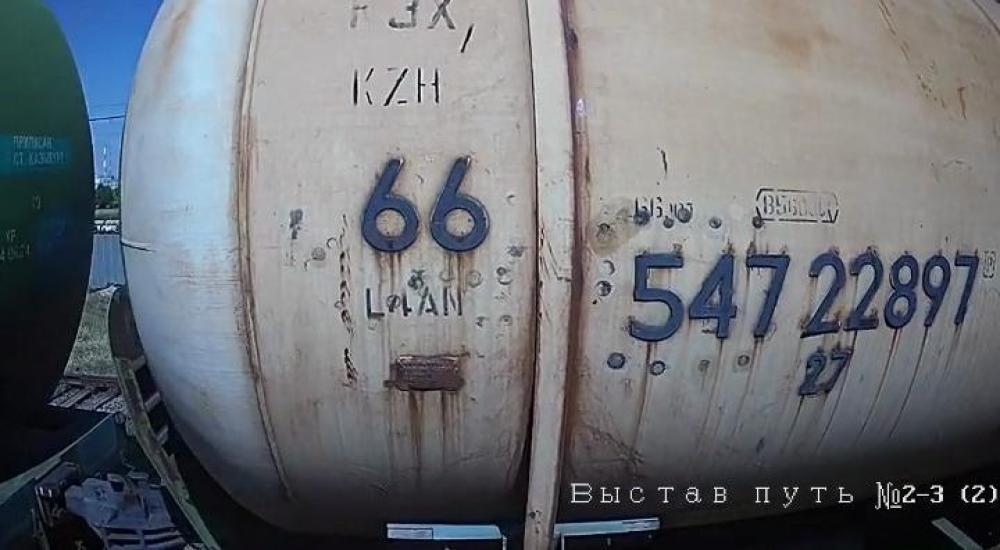Wagon-number: (625, 250, 983, 346)
